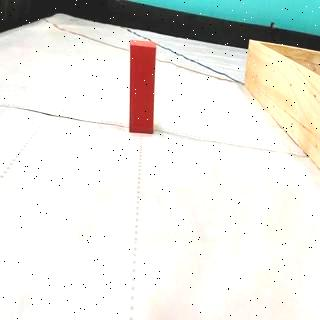redbox: (130, 40, 156, 134)
